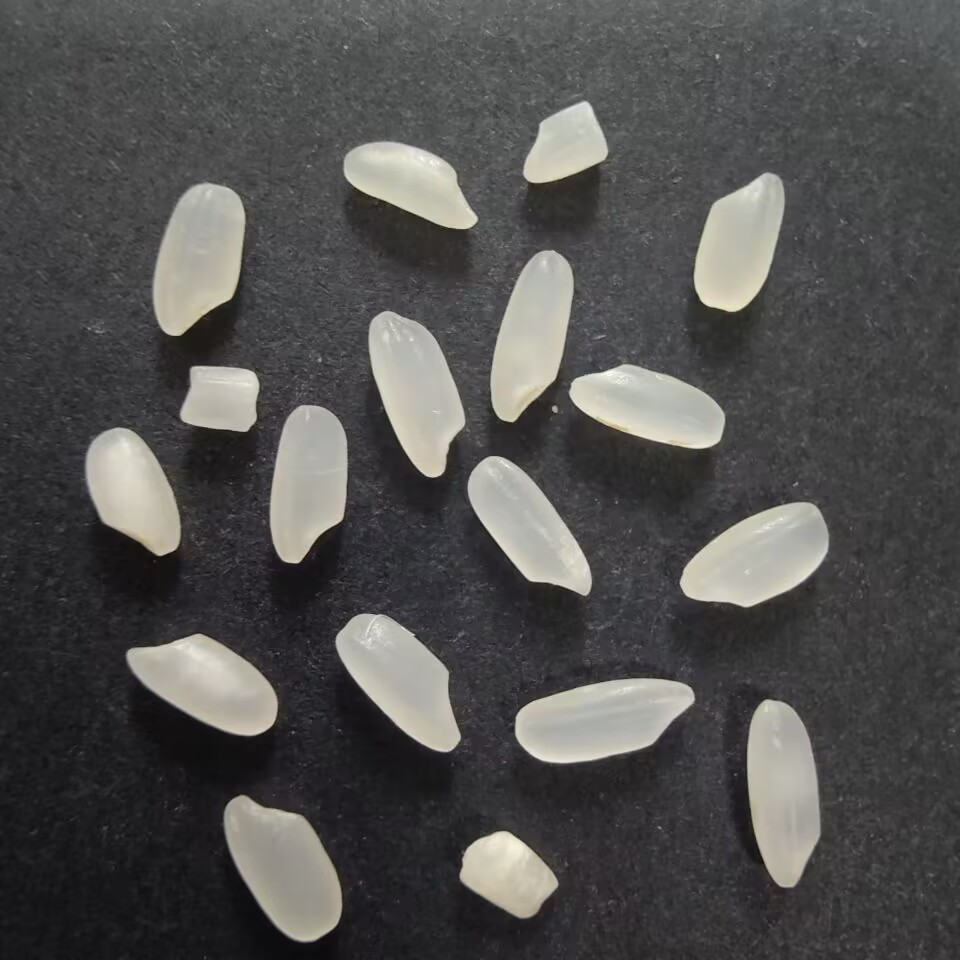broken: (458, 825, 562, 924), (514, 97, 617, 186), (175, 357, 267, 441)
rice: (219, 790, 353, 946), (463, 455, 597, 601), (333, 609, 464, 756), (366, 307, 471, 481), (669, 497, 830, 608), (117, 631, 282, 737), (508, 673, 698, 763), (745, 692, 828, 893), (489, 242, 577, 431), (147, 177, 249, 339), (264, 399, 355, 566), (563, 362, 731, 452), (690, 168, 791, 311), (80, 424, 185, 559), (335, 140, 484, 235)
